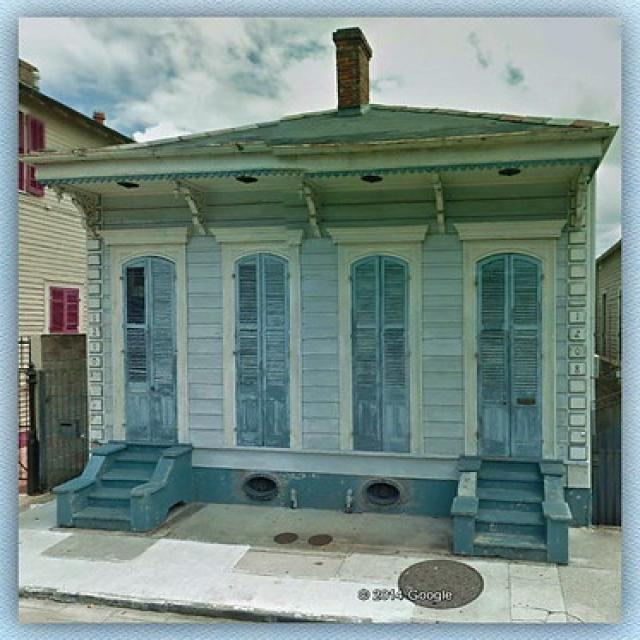building: (22, 29, 620, 560)
